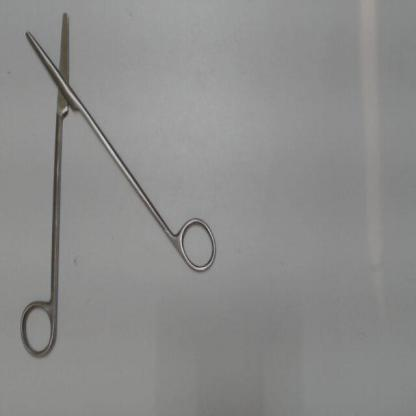9 Metzenbaum Scissors: (15, 9, 221, 363)
